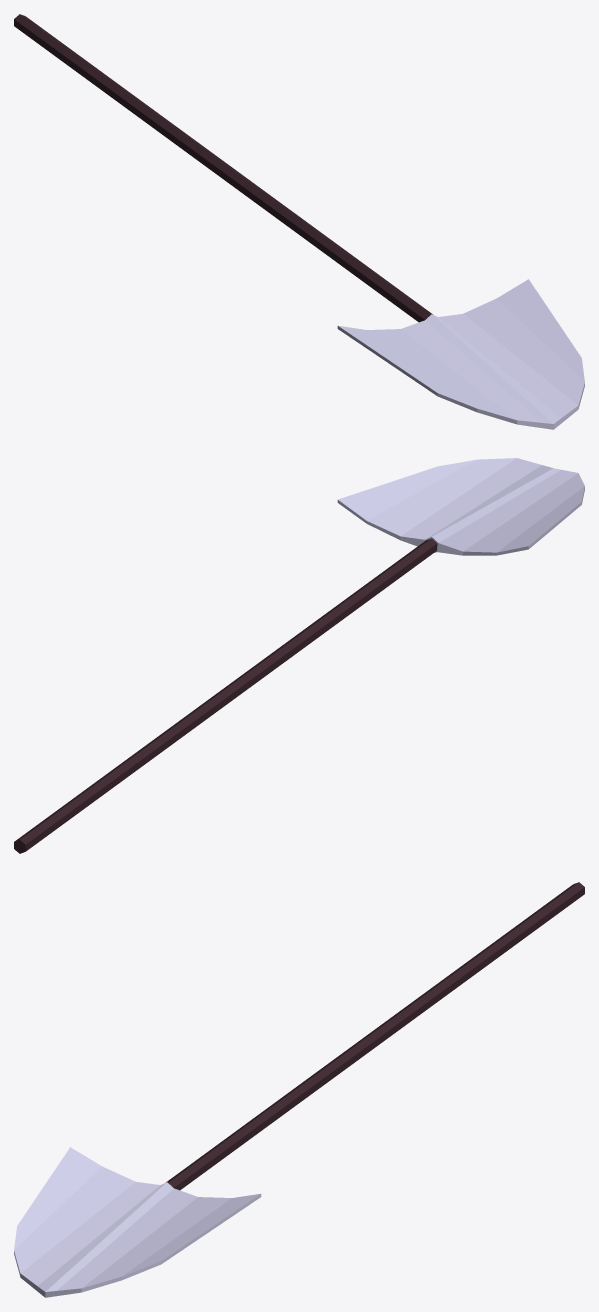
The model's file is Shovel.fbx.
3 renders of one model, top to bottom at view 1: azimuth 30°, elevation 25°; view 2: azimuth 150°, elevation 25°; view 3: azimuth 330°, elevation 25°, orthographic.
Parts seen in each view (by area): view 1: Shovel; view 2: Shovel; view 3: Shovel.
Boxes of the visible parts, x1=… form: Shovel: x1=14, y1=14, x2=584, y2=429; Shovel: x1=14, y1=458, x2=584, y2=853; Shovel: x1=14, y1=882, x2=584, y2=1297.
Size of the model in its own units: 28.33 by 5.58 by 137.
